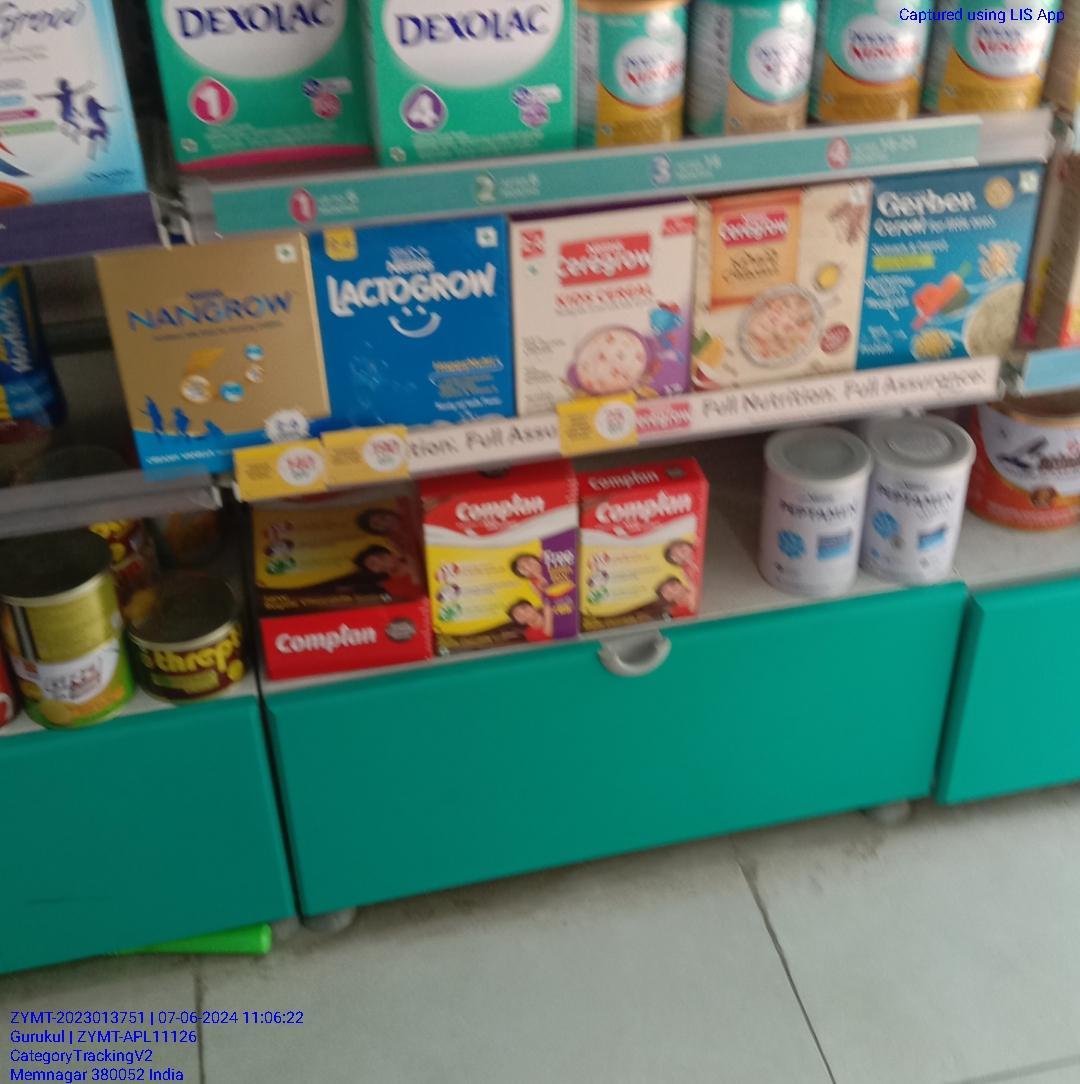COMPLAN_CHOCOLATE_200_GMS_PACK: (581, 497, 707, 623)
COMPLAN_CHOCOLATE_500_GMS_PACK: (433, 491, 572, 654)
